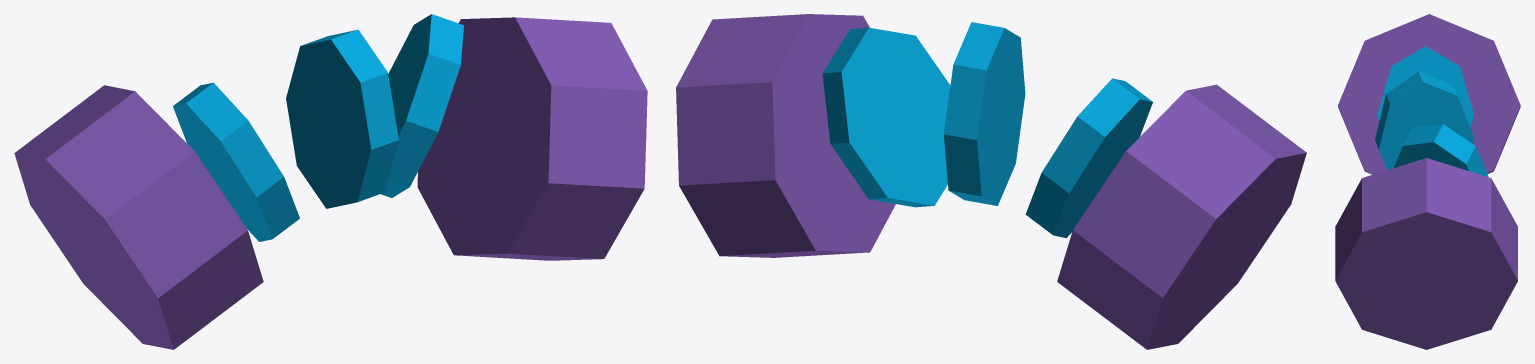
File: SM_Prototype _06.fbx
The picture shows the model from 3 angles, left to right: view 1: azimuth 30°, elevation 25°; view 2: azimuth 150°, elevation 25°; view 3: azimuth 270°, elevation 25°; orthographic projection. The views are drawn at different scales.
Visible parts, largest first — view 1: SM_Prototype _06; view 2: SM_Prototype _06; view 3: SM_Prototype _06.
Part boxes in pixels (x1,y1,x2,y2): SM_Prototype _06: (14, 14, 647, 349); SM_Prototype _06: (676, 14, 1306, 349); SM_Prototype _06: (1335, 14, 1520, 349).
Bounding box in the file's own units: 6.9 × 3.28 × 2.75.
